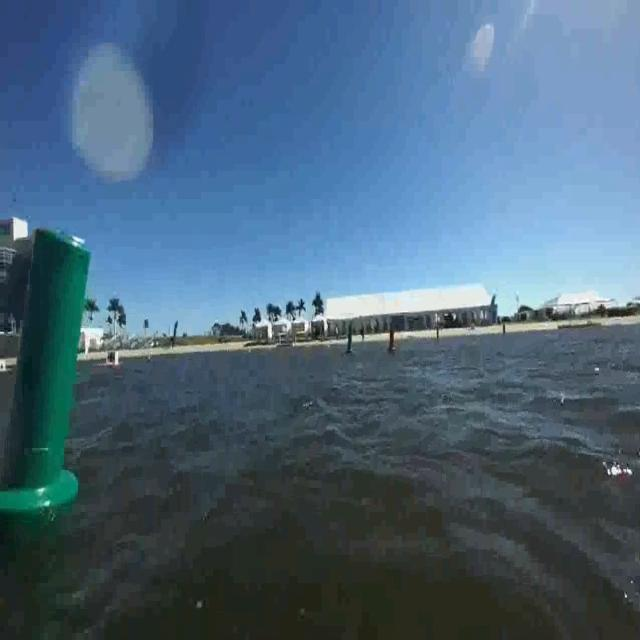green-column-buoy: (0, 229, 89, 514), (345, 324, 356, 356)
red-column-buoy: (386, 325, 398, 355)
